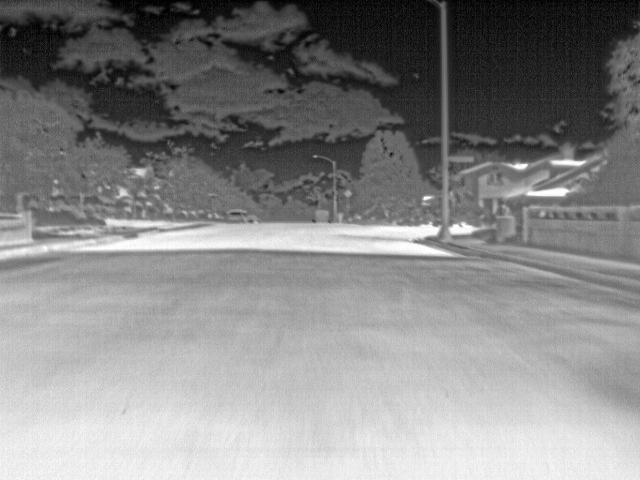car: (310, 208, 330, 222), (226, 208, 244, 221), (245, 212, 258, 224)
person: (494, 198, 510, 218)
